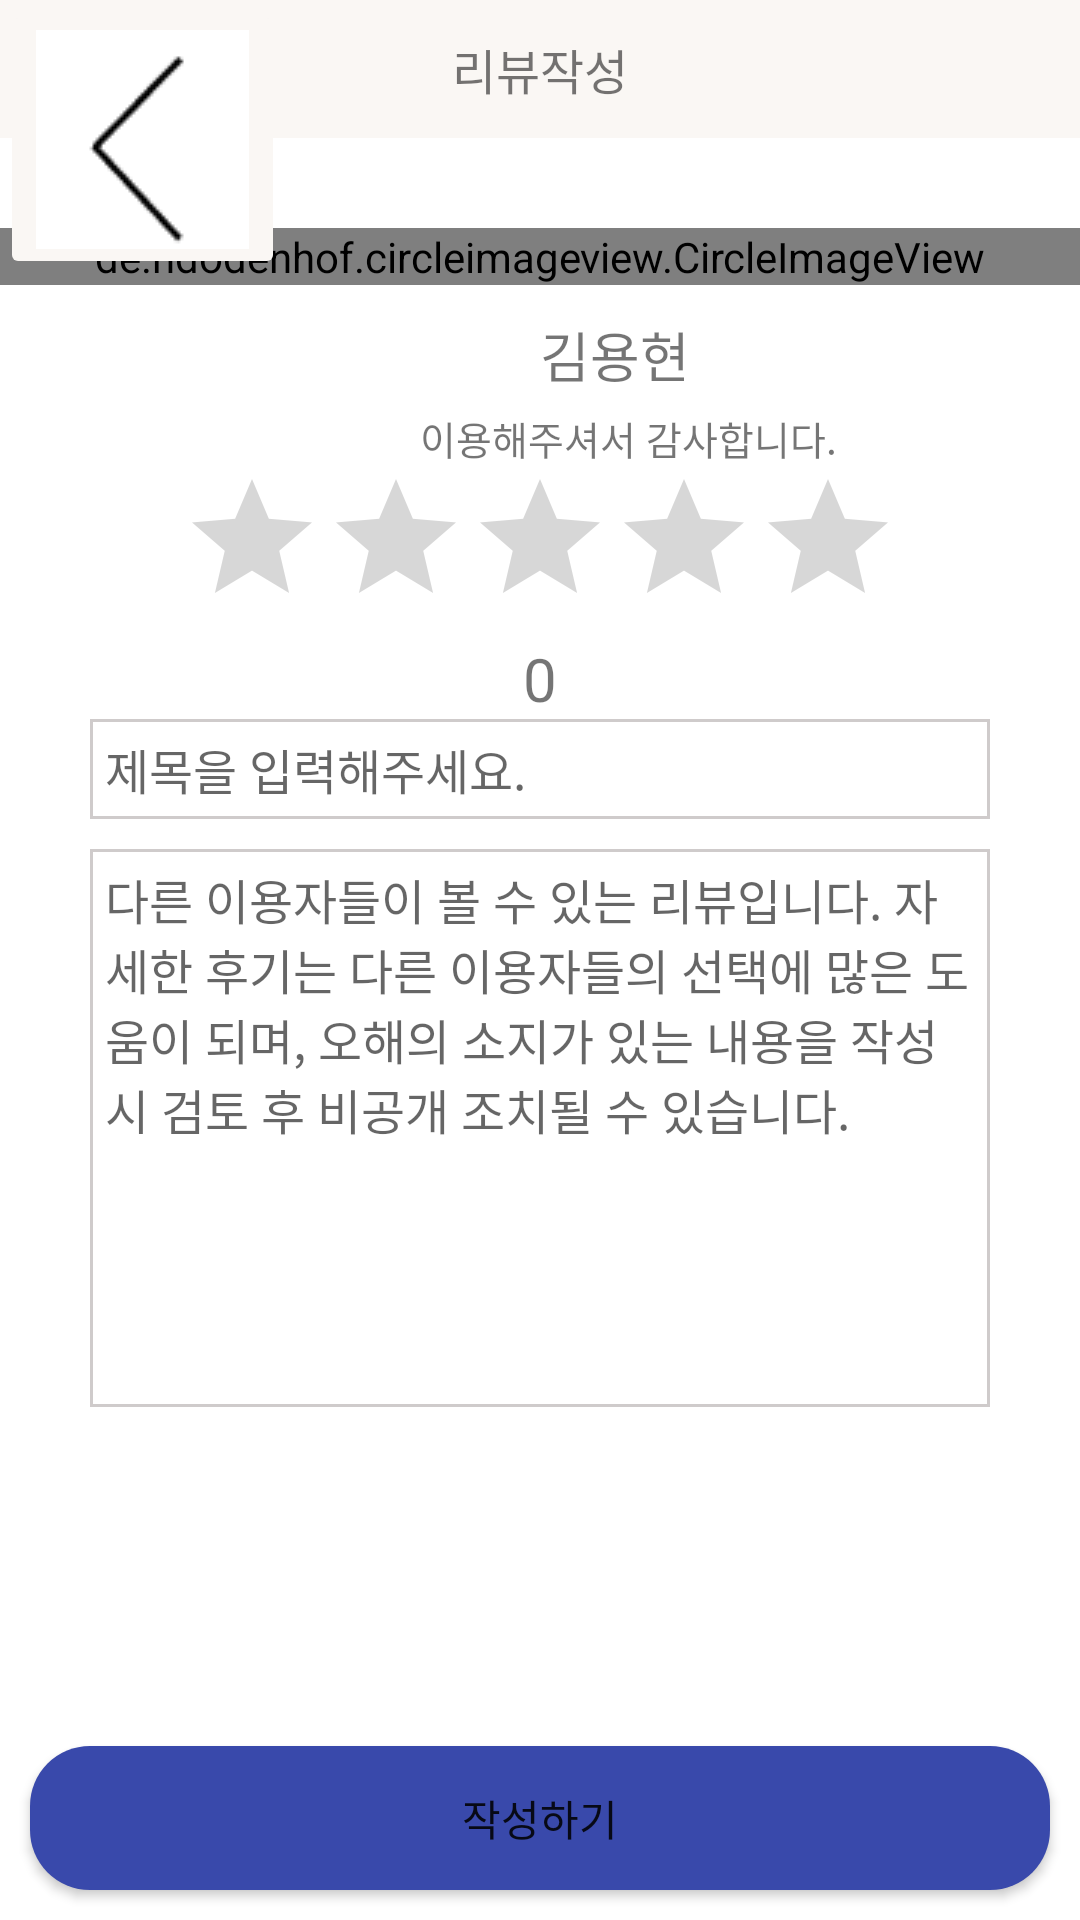

Point at icon controls on the screen. Image size 1080 x 1920, points as (x=x, y=y).
arrow: (x=142, y=139)
